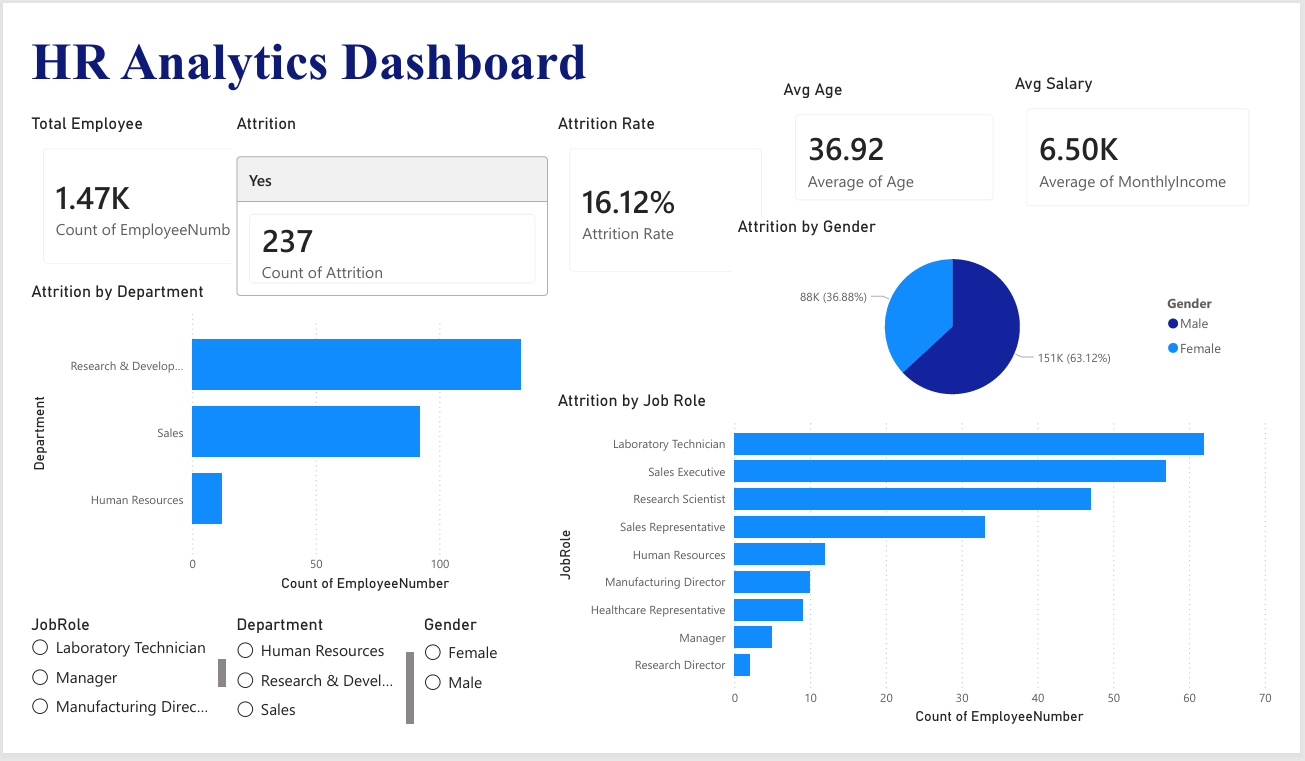

This screenshot's page, from the dashboard's own definition file:
{"tool":"powerbi","page":{"name":"Page 1","canvas":[1280,720],"ordinal":0},"visuals":[{"type":"cardVisual","title":"Total Employee","fields":{"Data":["CountNonNull(WA_Fn-UseC_-HR-Employee-Attrition.EmployeeNumber)"]},"box":[0,89.2,253.9,171.5],"z":0},{"type":"clusteredBarChart","title":"Attrition by Department","fields":{"Category":["WA_Fn-UseC_-HR-Employee-Attrition.Department"],"Y":["CountNonNull(WA_Fn-UseC_-HR-Employee-Attrition.EmployeeNumber)"]},"box":[0,260.7,539.3,322.5],"z":2000},{"type":"cardVisual","title":"Attrition Rate","fields":{"Data":["WA_Fn-UseC_-HR-Employee-Attrition.Attrition Rate"]},"box":[539.3,89.2,230.5,179.8],"z":3000},{"type":"cardVisual","title":"Attrition","fields":{"Rows":["WA_Fn-UseC_-HR-Employee-Attrition.Attrition"],"Data":["CountNonNull(WA_Fn-UseC_-HR-Employee-Attrition.Attrition)"]},"box":[209.9,89.2,329.3,212.7],"z":3500},{"type":"cardVisual","title":"Avg Age","fields":{"Data":["Avg(WA_Fn-UseC_-HR-Employee-Attrition.Age)"]},"box":[769.8,53.5,237.4,142.7],"z":4000},{"type":"cardVisual","title":"Avg Salary","fields":{"Data":["Avg(WA_Fn-UseC_-HR-Employee-Attrition.MonthlyIncome)"]},"box":[1007.2,48,262.1,153.7],"z":6000},{"type":"clusteredBarChart","title":"Attrition by Job Role","fields":{"Category":["WA_Fn-UseC_-HR-Employee-Attrition.JobRole"],"Y":["CountNonNull(WA_Fn-UseC_-HR-Employee-Attrition.EmployeeNumber)"]},"box":[539.3,373.2,741,347.2],"z":7000},{"type":"pieChart","title":"Attrition by Gender","fields":{"Category":["WA_Fn-UseC_-HR-Employee-Attrition.Gender"],"Y":["Sum(WA_Fn-UseC_-HR-Employee-Attrition.EmployeeNumber)"]},"box":[723.2,194.9,516,205.8],"z":7500},{"type":"listSlicer","fields":{"Values":["WA_Fn-UseC_-HR-Employee-Attrition.Department"]},"box":[209.9,602.4,192.1,118],"z":8000},{"type":"listSlicer","fields":{"Values":["WA_Fn-UseC_-HR-Employee-Attrition.JobRole"]},"box":[0,602.4,209.9,118],"z":9000},{"type":"listSlicer","fields":{"Values":["WA_Fn-UseC_-HR-Employee-Attrition.Gender"]},"box":[402.1,602.4,137.2,118],"z":10000},{"type":"textbox","box":[0,0,758.8,89.2],"z":10001}]}

Visuals, with their boxes on the page's 1280x720 design canvas (x1, y1, x2, y2). These are canvas units, not pixel positions in the 1305x761 screenshot, which may show the page scaled, cropped or inside an application window:
"Total Employee" cardVisual: (0, 89, 254, 261)
"Attrition by Department" clusteredBarChart: (0, 261, 539, 583)
"Attrition Rate" cardVisual: (539, 89, 770, 269)
"Attrition" cardVisual: (210, 89, 539, 302)
"Avg Age" cardVisual: (770, 54, 1007, 196)
"Avg Salary" cardVisual: (1007, 48, 1269, 202)
"Attrition by Job Role" clusteredBarChart: (539, 373, 1280, 720)
"Attrition by Gender" pieChart: (723, 195, 1239, 401)
listSlicer - WA_Fn-UseC_-HR-Employee-Attrition.Department: (210, 602, 402, 720)
listSlicer - WA_Fn-UseC_-HR-Employee-Attrition.JobRole: (0, 602, 210, 720)
listSlicer - WA_Fn-UseC_-HR-Employee-Attrition.Gender: (402, 602, 539, 720)
textbox: (0, 0, 759, 89)
